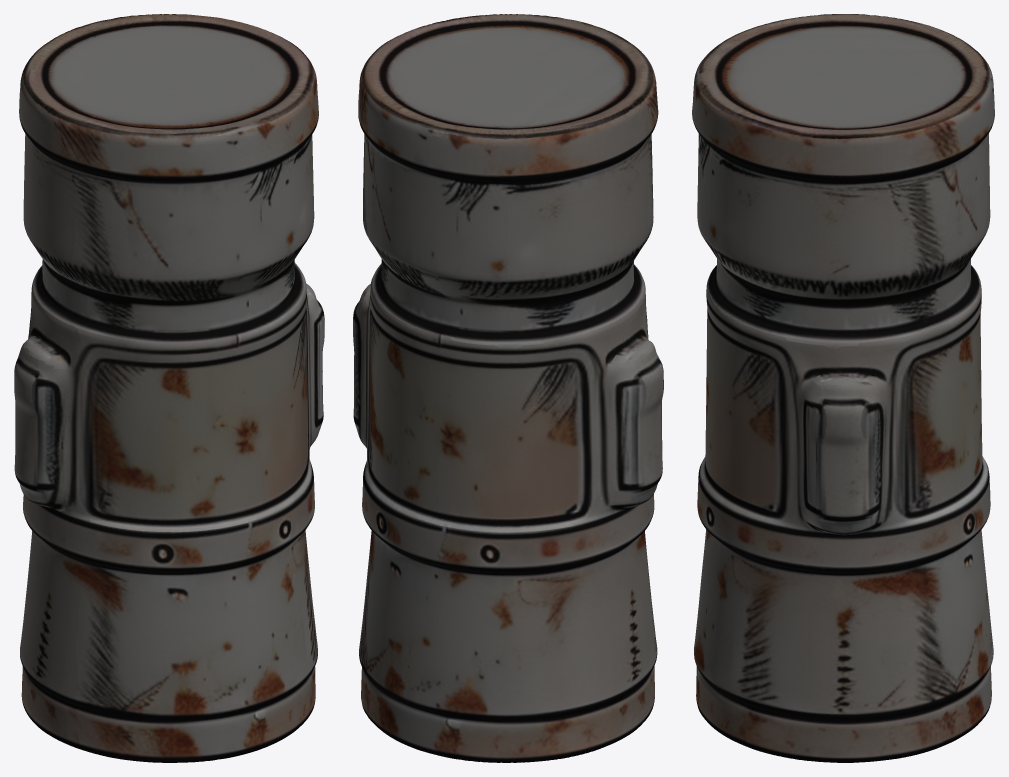
Rendered from catalog-weapon-mod-3-5.glb.
3 views of the same model, side by side, from view 1: azimuth 30°, elevation 25°; view 2: azimuth 150°, elevation 25°; view 3: azimuth 270°, elevation 25° (orthographic).
Parts seen in each view (by area): view 1: tmpq4_2bjzt.ply; view 2: tmpq4_2bjzt.ply; view 3: tmpq4_2bjzt.ply.
Boxes of the visible parts, bbox=[...] form: tmpq4_2bjzt.ply: bbox=[14, 14, 324, 762]; tmpq4_2bjzt.ply: bbox=[353, 14, 663, 762]; tmpq4_2bjzt.ply: bbox=[692, 14, 994, 762].
Bounding box in the file's own units: 0.9737 × 1.96 × 0.8549.
1 material, 1 textured.
